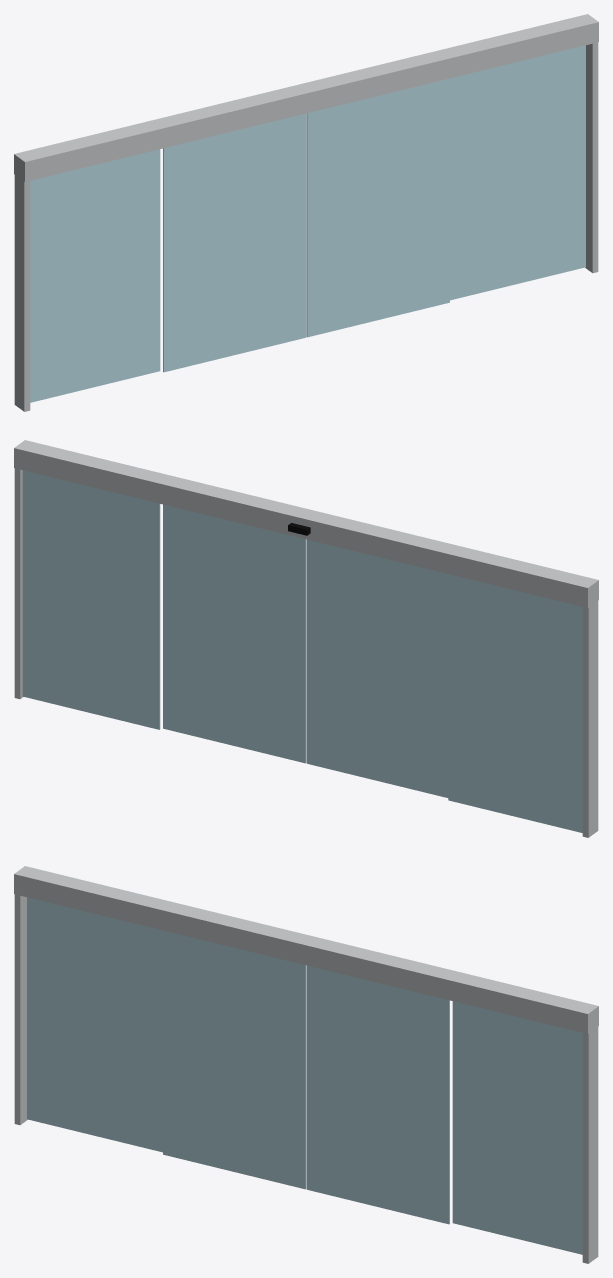
Rendered from opening.door.auto_sliding_wide.glb.
3 views of the same model, one above another, from view 1: azimuth 30°, elevation 25°; view 2: azimuth 150°, elevation 25°; view 3: azimuth 330°, elevation 25° (orthographic).
Visible parts, largest first — view 1: leaf__glass, frame__aluminium; view 2: leaf__glass, frame__aluminium; view 3: leaf__glass, frame__aluminium.
Boxes of the visible parts, bbox=[...] form: leaf__glass: bbox=[30, 45, 585, 402]; frame__aluminium: bbox=[14, 14, 598, 411]; leaf__glass: bbox=[22, 470, 582, 832]; frame__aluminium: bbox=[14, 440, 598, 837]; leaf__glass: bbox=[27, 897, 582, 1254]; frame__aluminium: bbox=[14, 866, 598, 1263].
Size of the model in its own units: 6 by 2.5 by 0.26.
